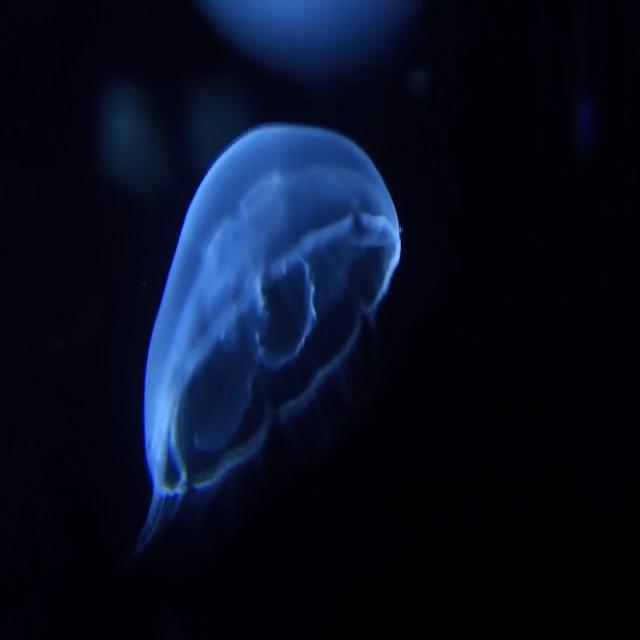Moon-jellyfish: (144, 125, 400, 539)
